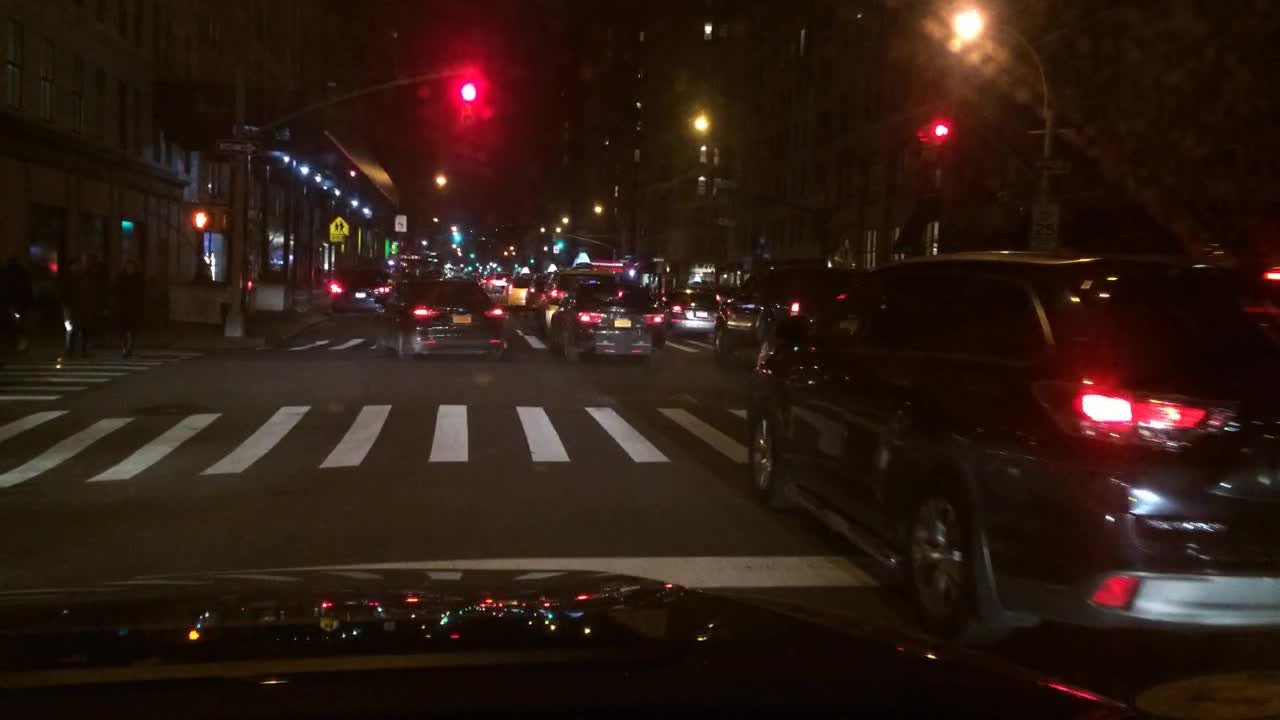car: (742, 244, 1279, 652), (712, 262, 870, 370), (377, 276, 507, 364), (549, 280, 659, 365), (538, 248, 616, 335), (659, 280, 732, 335), (325, 262, 394, 317), (504, 267, 540, 314), (527, 262, 565, 304), (484, 272, 511, 296)
person: (109, 258, 148, 359), (57, 253, 91, 358), (2, 248, 33, 356), (81, 253, 114, 335)
traffic light: (459, 74, 476, 104), (191, 208, 210, 230), (215, 209, 232, 232), (914, 124, 933, 141), (932, 120, 946, 143), (554, 239, 567, 251), (451, 231, 462, 244), (492, 263, 503, 273), (527, 257, 538, 266), (466, 250, 476, 258)
traffic sign: (1030, 199, 1059, 242), (325, 217, 352, 245), (215, 138, 261, 154), (1031, 158, 1074, 171), (393, 212, 406, 233)
